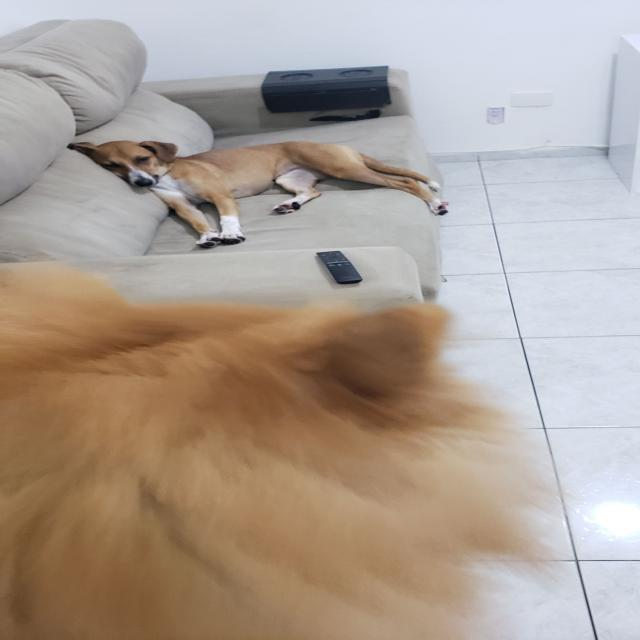laying down: (65, 132, 459, 251)
